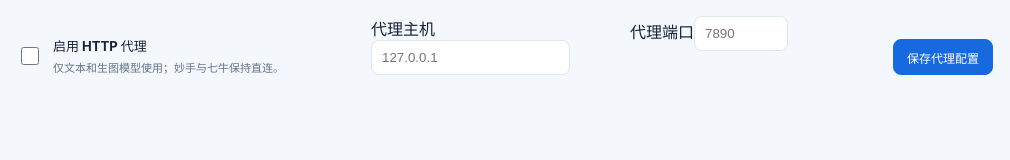
Scenario: ProxyConfigForm › requires host and port only when enabled
Click the checkbox labelled "启用 HTTP 代理" at (30, 56), box [21, 46, 39, 64]
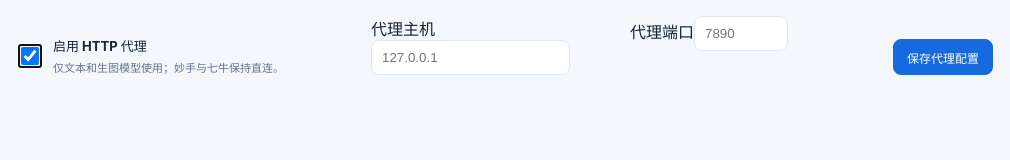
Click the button "保存代理配置" at (943, 57), box [893, 39, 993, 75]
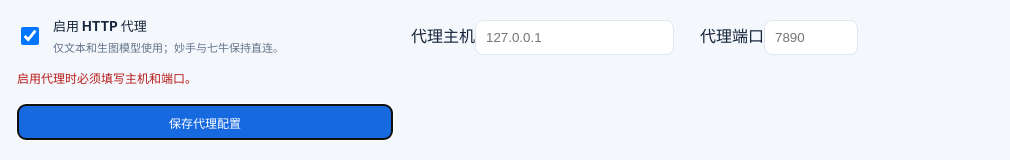
Expected: the text "启用代理时必须填写主机和端口。" is shown, [17, 71, 197, 86]
